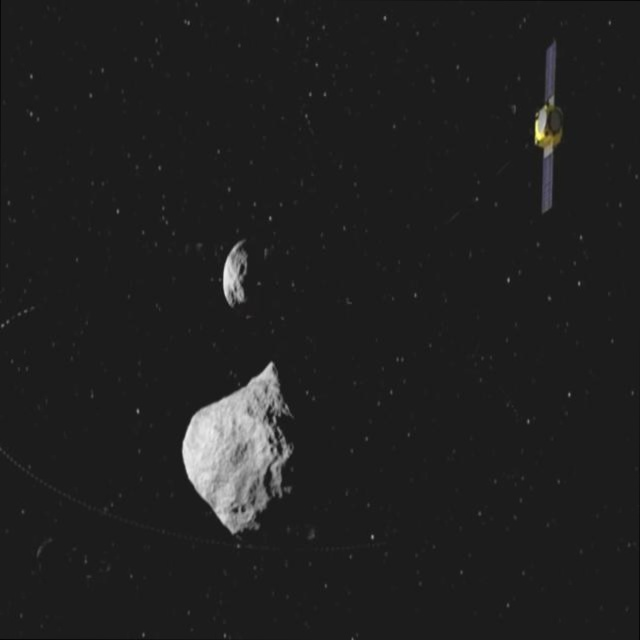large_debris: (168, 343, 304, 541), (215, 225, 256, 340)
medium_debris: (503, 1, 584, 252)
